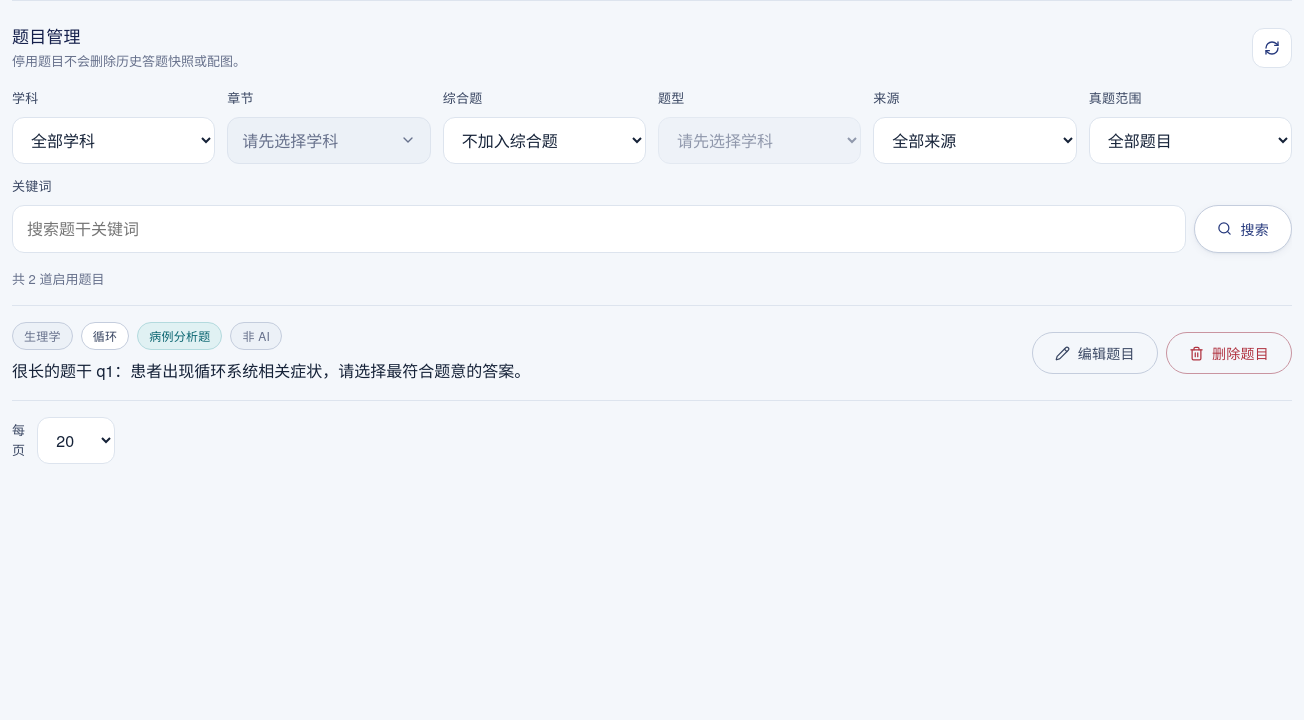
AdminQuizManage › keeps the row and shows a retryable error: 题目不存在
The width and height of the screenshot is (1304, 720).
What coordinates should you click on to do the following:
click the button with class "delete-button"
I would click on:
 (1229, 353)
Its box is [1166, 332, 1292, 374].
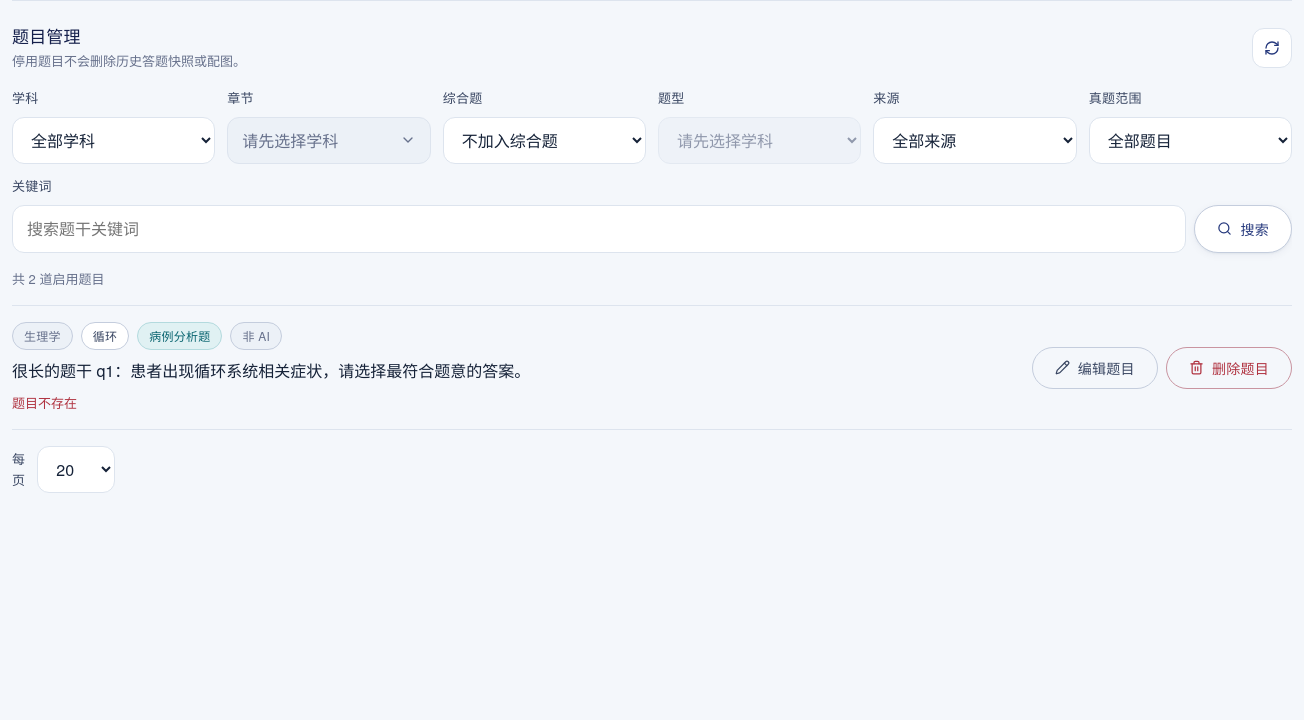
Expected: the text "很长的题干 q1" is shown, [12, 358, 530, 382]
Expected: the text "题目不存在" is shown, [12, 393, 77, 412]
